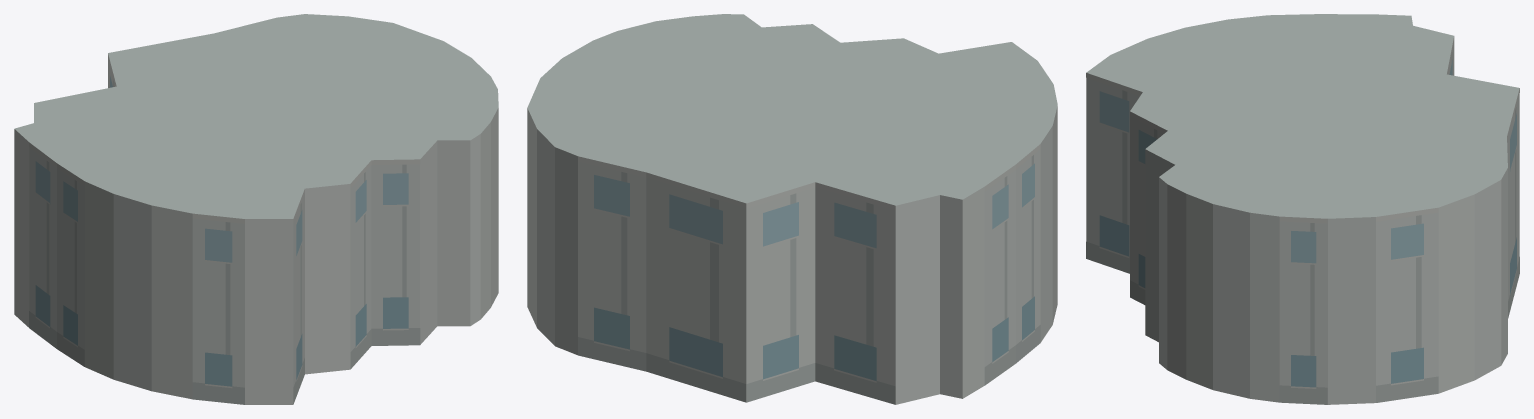
Rendered from residential-30aa5f1c-964c-4673-b0f1-d8e4b4f7e416.glb.
3 views of the same model, side by side, from view 1: azimuth 30°, elevation 25°; view 2: azimuth 150°, elevation 25°; view 3: azimuth 270°, elevation 25° (orthographic). The views are drawn at different scales.
Visible parts, largest first — view 1: residential-30aa5f1c-964c-4673-b0f1-d8e4b4f7e416.tmp; view 2: residential-30aa5f1c-964c-4673-b0f1-d8e4b4f7e416.tmp; view 3: residential-30aa5f1c-964c-4673-b0f1-d8e4b4f7e416.tmp.
Part boxes in pixels (left/top/right/bottom): residential-30aa5f1c-964c-4673-b0f1-d8e4b4f7e416.tmp: left=14, top=14, right=498, bottom=404; residential-30aa5f1c-964c-4673-b0f1-d8e4b4f7e416.tmp: left=527, top=14, right=1057, bottom=404; residential-30aa5f1c-964c-4673-b0f1-d8e4b4f7e416.tmp: left=1086, top=14, right=1519, bottom=404.
Size of the model in its own units: 21.6 by 9.15 by 19.32.
